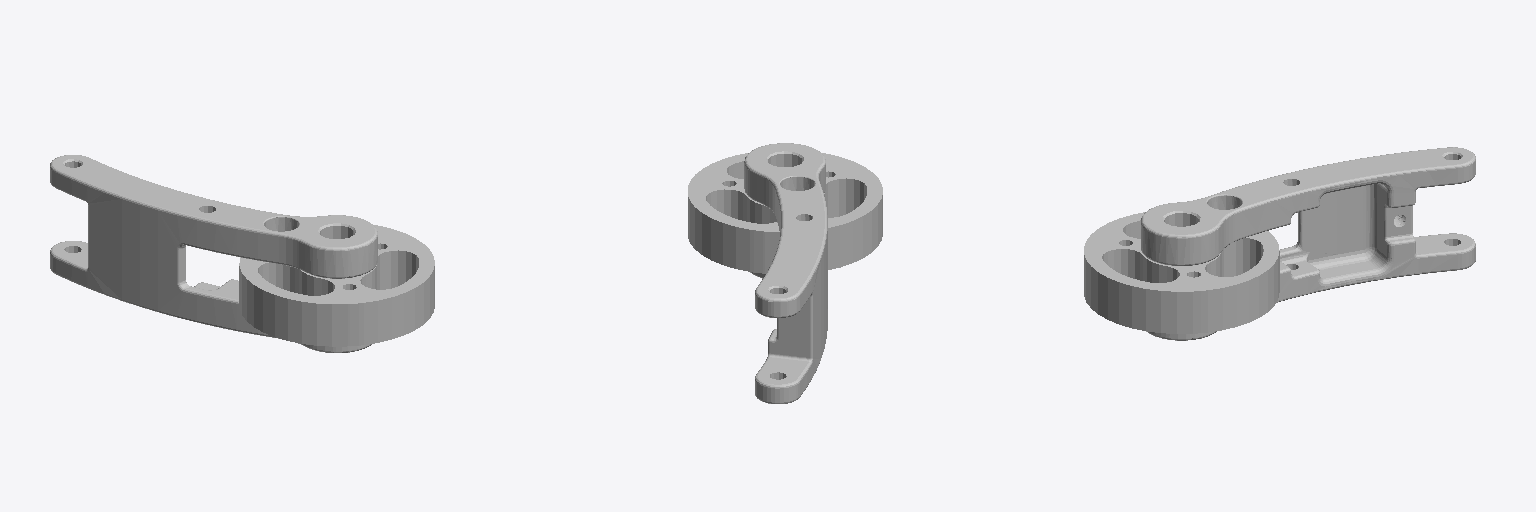
The model's file is r_b_bar-1.obj.
3 renders of one model, left to right at view 1: azimuth 30°, elevation 25°; view 2: azimuth 150°, elevation 25°; view 3: azimuth 270°, elevation 25°, orthographic.
Visible parts, largest first — view 1: obj1; view 2: obj1; view 3: obj1.
Boxes of the visible parts, <box> form: obj1: <box>50,155,434,352</box>; obj1: <box>688,143,882,403</box>; obj1: <box>1084,147,1475,340</box>.
Bounding box in the file's own units: 0.0462 × 0.02 × 0.0673.